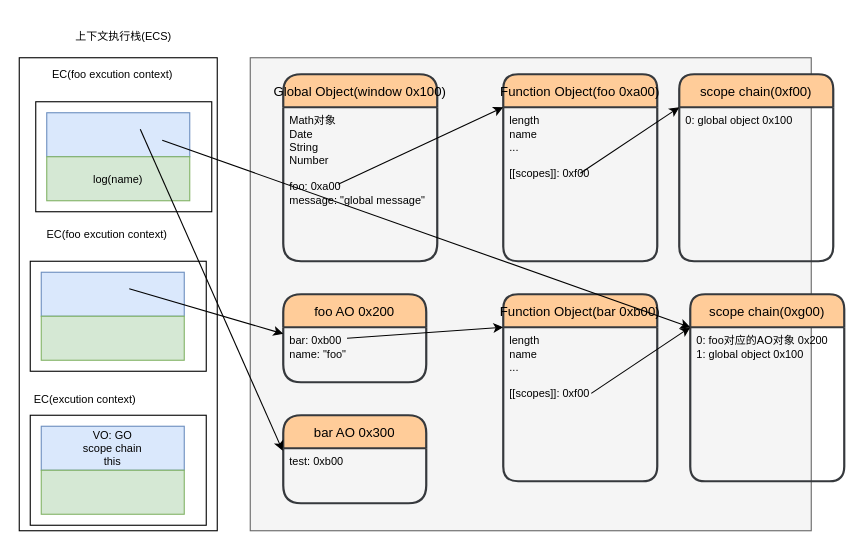
Image size: 865x550. Some labels were removed from this diagram. The centre of each missing label's shape, as x and y in pixels:
VO: AO scope chain:: the point at 112,293
VO: AO scope chain: 0xg00: the point at 118,134
